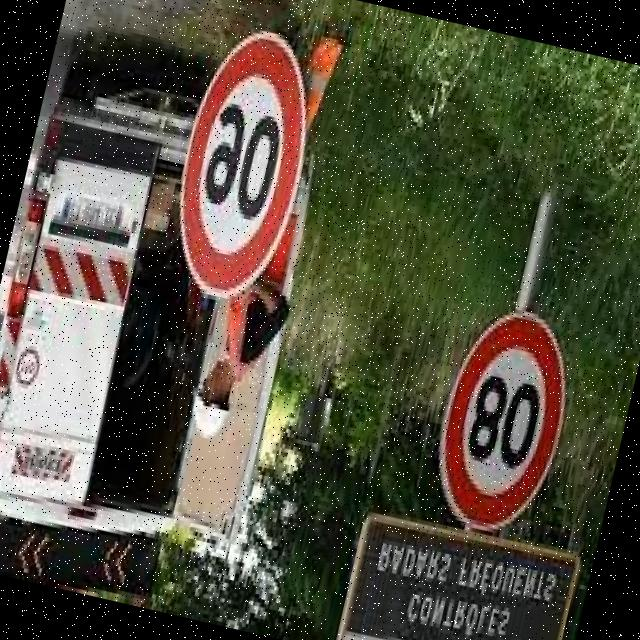speed_limit_80: (416, 297, 591, 548)
